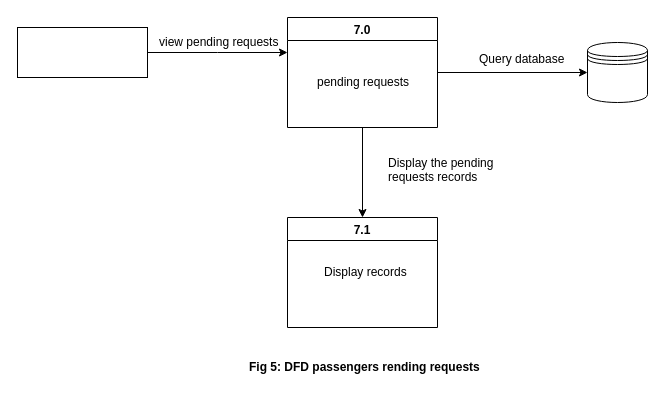
Image size: 665x395. Some labels were removed from this diagram. Here are the shapes that lost their labels. From the top down, the centre of each, then its label:
At (x=82, y=52): "Passengers".
At (x=617, y=72): "requests".
